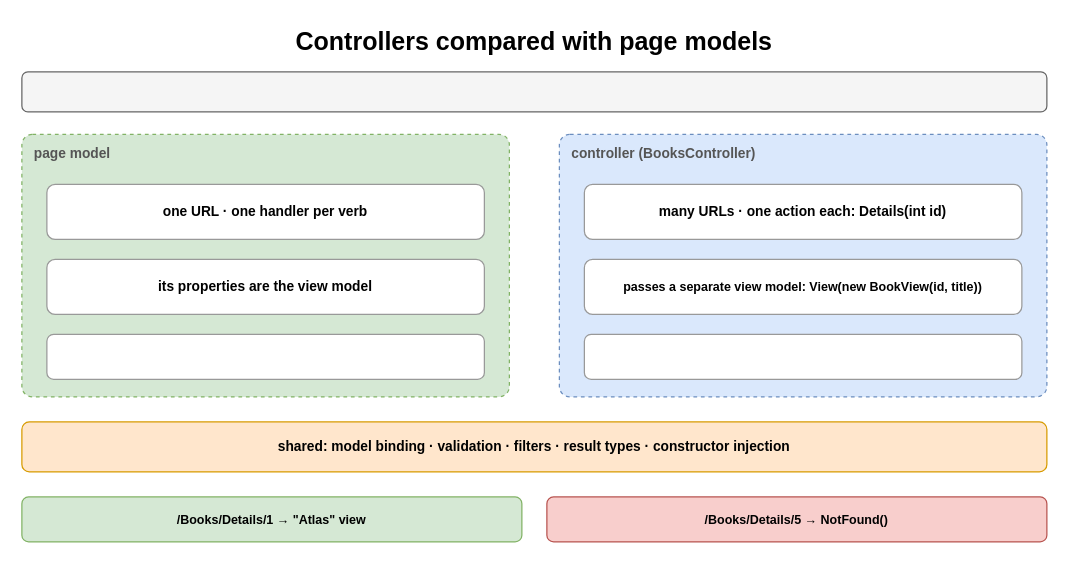
This 1069x564 diagram has some shape labels left out. Each missing label, with the centre of its shape:
"Page() or NotFound()" belongs at point (265, 356).
"Same job: bind input, call services, return an IActionResult" belongs at point (534, 91).
"View(...) or NotFound()" belongs at point (802, 356).
